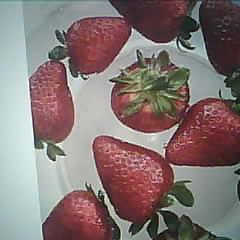straw-ripe: (93, 135, 175, 222), (166, 97, 240, 167), (27, 60, 74, 147), (64, 16, 132, 74)
